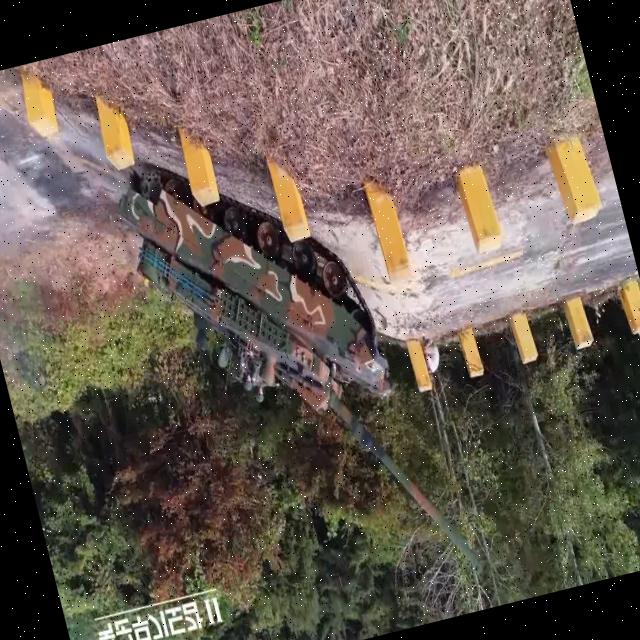korea tank: (102, 98, 490, 640)
